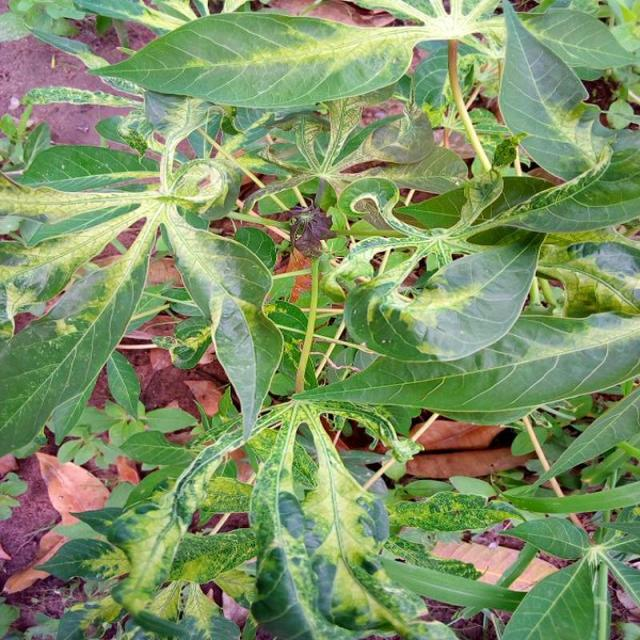cassava leaf: (0, 1, 638, 638), (87, 8, 421, 110)
